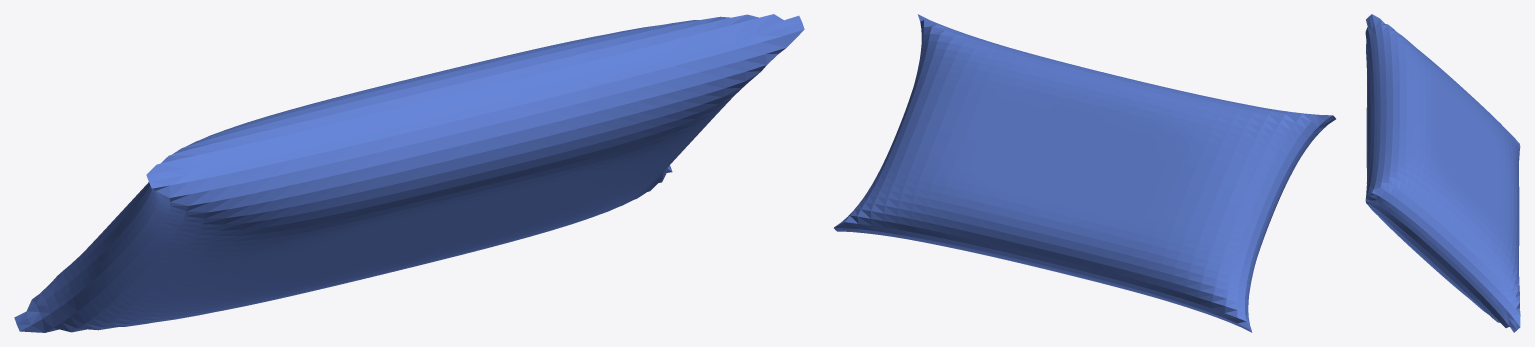
File: Almohada.obj
3 views of the same model, side by side, from view 1: azimuth 30°, elevation 25°; view 2: azimuth 150°, elevation 25°; view 3: azimuth 270°, elevation 25° (orthographic). The views are drawn at different scales.
Visible parts, largest first — view 1: Cube.020_Cube.034; view 2: Cube.020_Cube.034; view 3: Cube.020_Cube.034.
Part boxes in pixels (bbox=[...]): Cube.020_Cube.034: bbox=[14, 14, 804, 332]; Cube.020_Cube.034: bbox=[834, 14, 1335, 332]; Cube.020_Cube.034: bbox=[1365, 14, 1520, 332].
Size of the model in its own units: 17.31 by 6.33 by 6.33.
